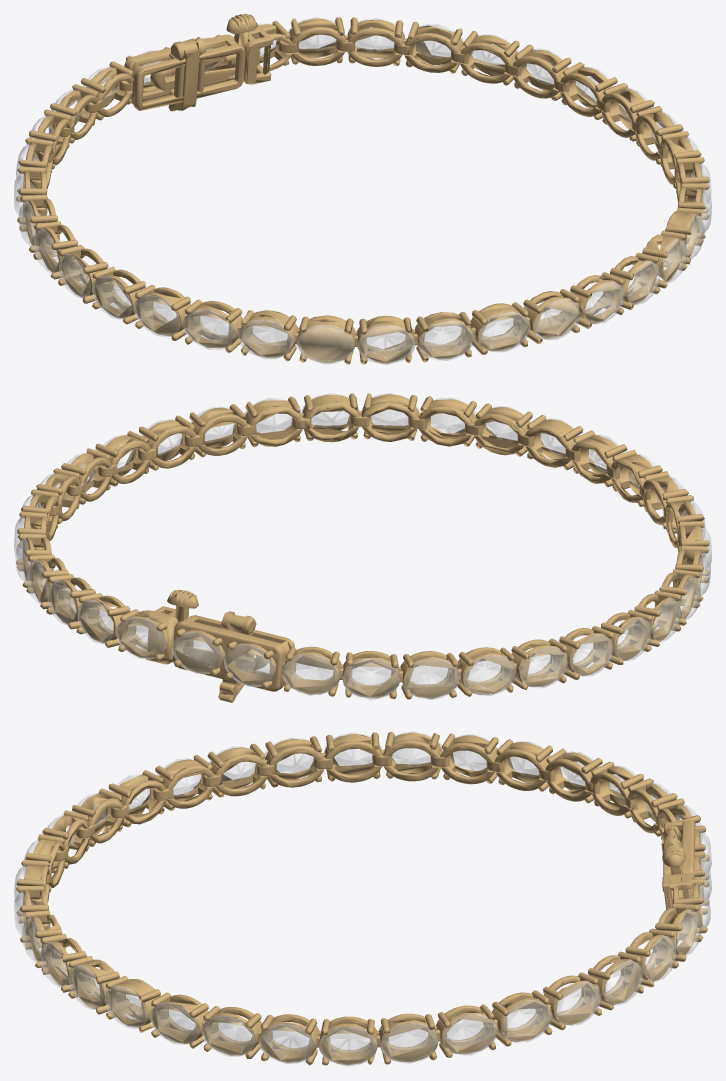
Rendered from vongta5.glb.
The picture shows the model from 3 angles, top to bottom: view 1: azimuth 30°, elevation 25°; view 2: azimuth 150°, elevation 25°; view 3: azimuth 270°, elevation 25°; orthographic projection.
Visible parts, largest first — view 1: mesh_44, Diamond_Oval_3, Diamond_Oval_4, Diamond_Oval, Diamond_Oval_5, Diamond_Oval_1, Diamond_Oval_6, mesh_24, Diamond_Oval_2, mesh_14, mesh_55, Diamond_Oval_11 (+38 smaller); view 2: mesh_340, Diamond_Oval_14, Diamond_Oval_13, Diamond_Oval_16, Diamond_Oval_15, Diamond_Oval_33, Diamond_Oval_34, Diamond_Oval_32, Diamond_Oval_7, mesh_135, mesh_75, mesh_144 (+38 smaller); view 3: Diamond_Oval_20, Diamond_Oval_21, Diamond_Oval_22, Diamond_Oval_26, Diamond_Oval_23, Diamond_Oval_27, Diamond_Oval_24, Diamond_Oval_28, mesh_274, mesh_214, mesh_254, mesh_225 (+36 smaller).
Part boxes in pixels (x1,y1,x2,y2): mesh_44: [297, 316, 355, 363]; Diamond_Oval_3: [357, 325, 415, 364]; Diamond_Oval_4: [296, 324, 354, 364]; Diamond_Oval: [418, 321, 474, 360]; Diamond_Oval_5: [238, 319, 293, 359]; Diamond_Oval_1: [477, 312, 530, 352]; Diamond_Oval_6: [183, 309, 234, 350]; mesh_24: [524, 291, 578, 339]; Diamond_Oval_2: [533, 298, 581, 340]; mesh_14: [470, 303, 529, 351]; mesh_55: [239, 310, 298, 358]; Diamond_Oval_11: [134, 295, 180, 337]; mesh_340: [172, 620, 286, 691]; Diamond_Oval_14: [342, 658, 400, 699]; Diamond_Oval_13: [282, 654, 339, 695]; Diamond_Oval_16: [403, 659, 459, 699]; Diamond_Oval_15: [463, 655, 516, 696]; Diamond_Oval_33: [116, 617, 166, 659]; Diamond_Oval_34: [172, 631, 222, 674]; Diamond_Oval_32: [223, 644, 274, 686]; Diamond_Oval_7: [519, 647, 568, 688]; mesh_135: [282, 647, 341, 694]; mesh_75: [512, 640, 566, 686]; mesh_144: [342, 652, 400, 698]; Diamond_Oval_20: [319, 1026, 376, 1066]; Diamond_Oval_21: [380, 1023, 438, 1063]; Diamond_Oval_22: [258, 1023, 315, 1064]; Diamond_Oval_26: [441, 1014, 497, 1055]; Diamond_Oval_23: [201, 1015, 255, 1056]; Diamond_Oval_27: [500, 1000, 552, 1043]; Diamond_Oval_24: [149, 1002, 198, 1045]; Diamond_Oval_28: [555, 982, 601, 1026]; mesh_274: [492, 993, 551, 1042]; mesh_214: [379, 1014, 438, 1062]; mesh_254: [107, 979, 159, 1027]; mesh_225: [260, 1015, 319, 1062].
Bounding box in the file's own units: 2 × 0.2781 × 1.96.
